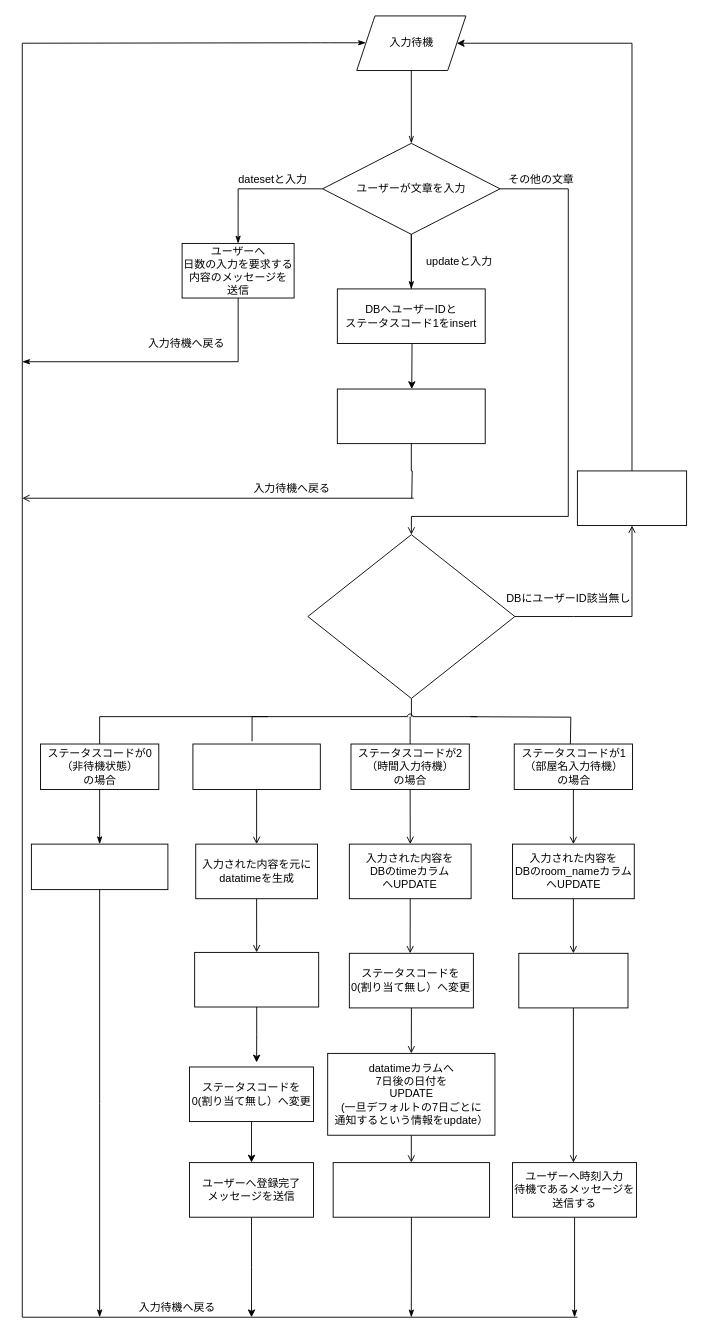
Image size: 703x1341. Some labels were removed from this diagram. Here are the shapes that lost their labels. From the top down, the box of each, then its label:
(336, 388, 485, 444): ユーザーへ部屋名の質問文 を送信する
(576, 470, 687, 526): ユーザーへ ヘルプメッセージを 送信
(307, 534, 515, 698): ユーザーIDがDBへ 入っており、なおかつ ステータスコードは何番か
(192, 743, 320, 790): ステータスコードが3 （通知頻度入力待機） の場合
(30, 843, 168, 890): アップデート待機 に関する ヘルプメッセージを送信
(194, 951, 319, 1007): 生成したdatetimeを DBへUPDATE
(518, 952, 628, 1008): ステータスコードを 2へ変更
(332, 1162, 490, 1217): ユーザーへ完了メッセージと 通知頻度設定方法に関する ヘルプメッセージを送信
